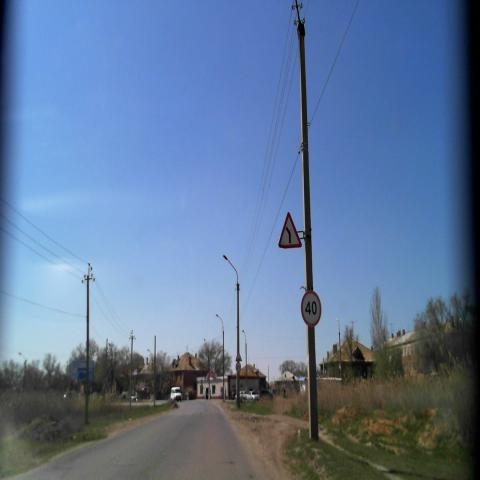1_11_1: (278, 209, 302, 247)
